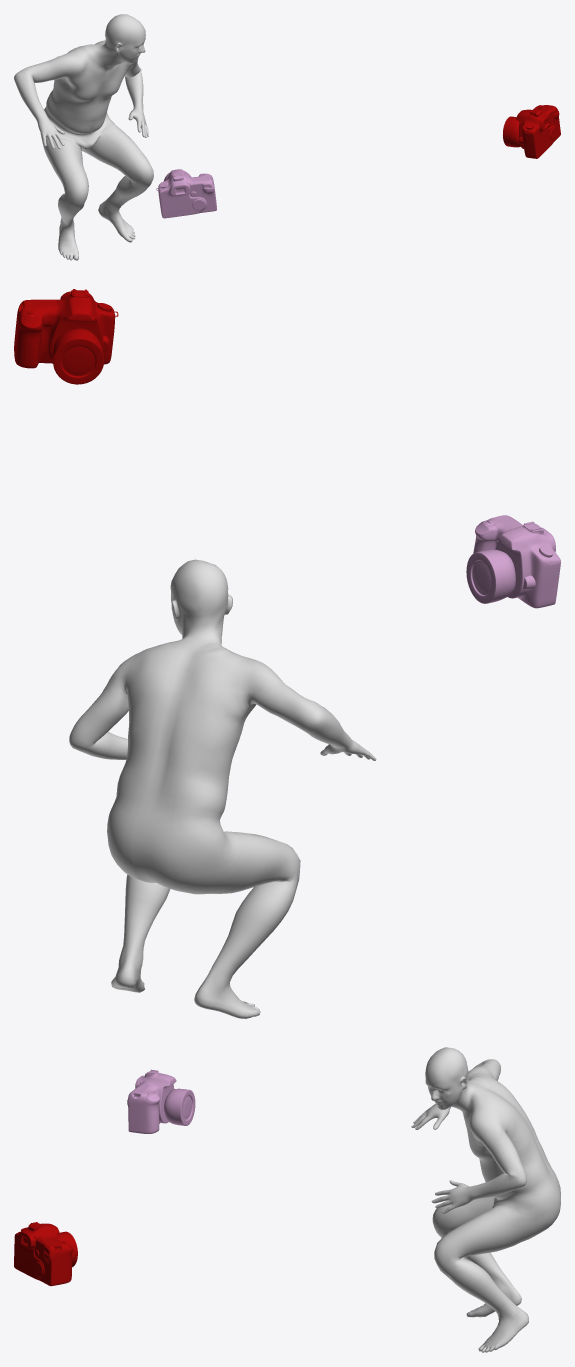
The model's file is table_girl.glb.
3 renders of one model, top to bottom at view 1: azimuth 30°, elevation 25°; view 2: azimuth 150°, elevation 25°; view 3: azimuth 270°, elevation 25°, orthographic. The views are drawn at different scales.
Visible parts, largest first — view 1: world, 10124_SLR_Camera_SG_V1_Iteration2.obj:ORKOHWIIS73E, 10124_SLR_Camera_SG_V1_Iteration2.obj; view 2: world, 10124_SLR_Camera_SG_V1_Iteration2.obj, 10124_SLR_Camera_SG_V1_Iteration2.obj:ORKOHWIIS73E; view 3: world, 10124_SLR_Camera_SG_V1_Iteration2.obj:ORKOHWIIS73E, 10124_SLR_Camera_SG_V1_Iteration2.obj.
Part boxes in pixels (x1,y1,x2,y2): world: (14,14,153,260); 10124_SLR_Camera_SG_V1_Iteration2.obj:ORKOHWIIS73E: (156,169,216,218); 10124_SLR_Camera_SG_V1_Iteration2.obj: (503,105,560,158); world: (69,559,376,1018); 10124_SLR_Camera_SG_V1_Iteration2.obj: (14,289,118,384); 10124_SLR_Camera_SG_V1_Iteration2.obj:ORKOHWIIS73E: (466,515,560,608); world: (411,1047,560,1352); 10124_SLR_Camera_SG_V1_Iteration2.obj:ORKOHWIIS73E: (127,1069,195,1133); 10124_SLR_Camera_SG_V1_Iteration2.obj: (14,1222,77,1286).
Bounding box in the file's own units: 2.14 × 1.36 × 2.33.
